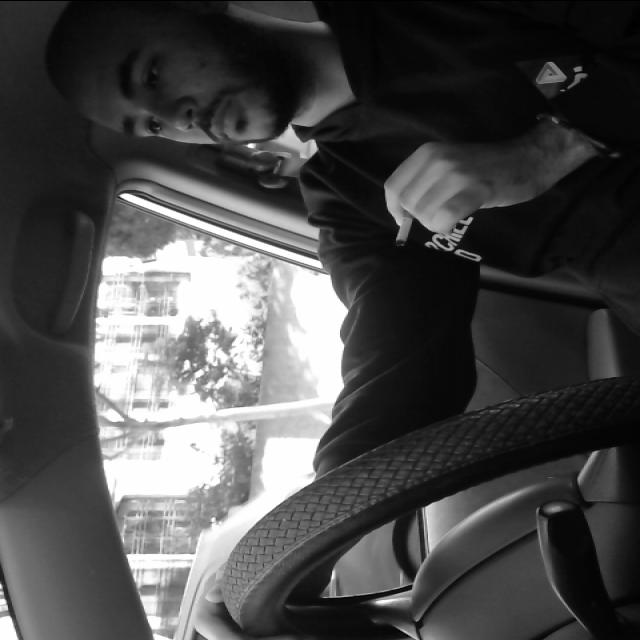smoking: (392, 185, 422, 248)
